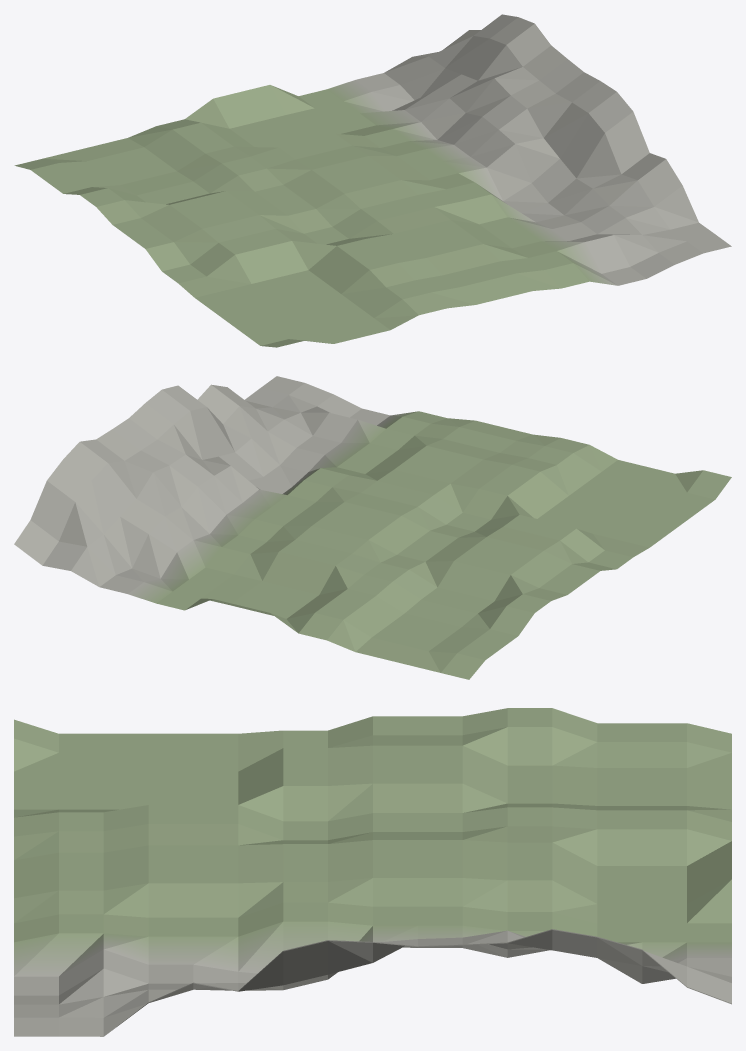
The picture shows the model from 3 angles, top to bottom: view 1: azimuth 30°, elevation 25°; view 2: azimuth 150°, elevation 25°; view 3: azimuth 270°, elevation 25°; orthographic projection. The views are drawn at different scales.
Bounding box in the file's own units: 32 × 6.07 × 32.
